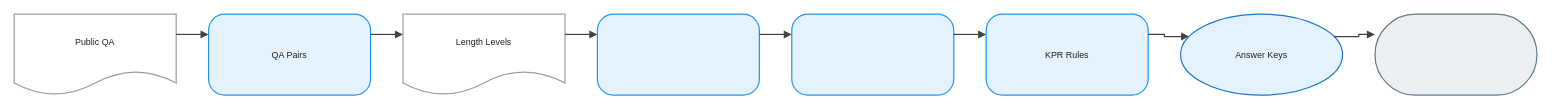
The diagram is 1552 pixels wide and 110 high, and some of its shapes have lost their labels. The shapes that lost their labels are listed below. From the top down, each one's centre as x and y in pixels, then its label:
At (x=678, y=54): "Context Mix".
At (x=872, y=54): "Confuse Facts".
At (x=1455, y=54): "LV-Eval".
